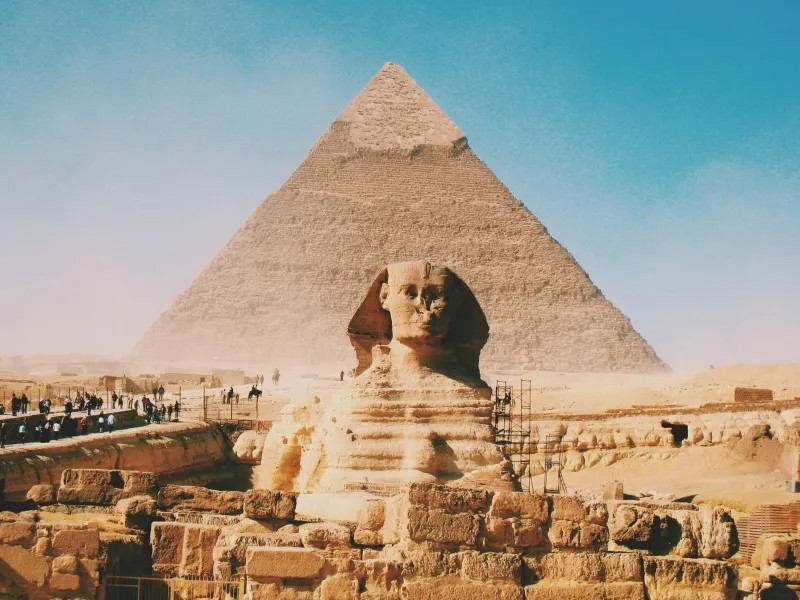Pyramid: (129, 61, 671, 372)
